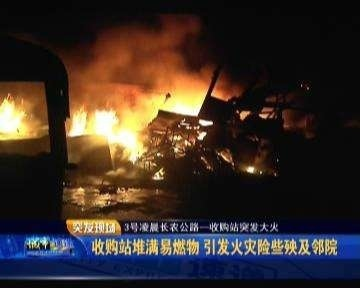fire: (68, 103, 143, 157), (0, 94, 27, 136)
